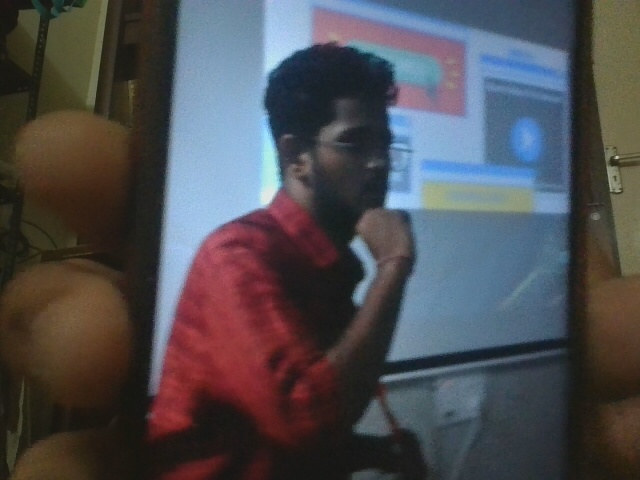fake: (369, 10, 597, 238)
